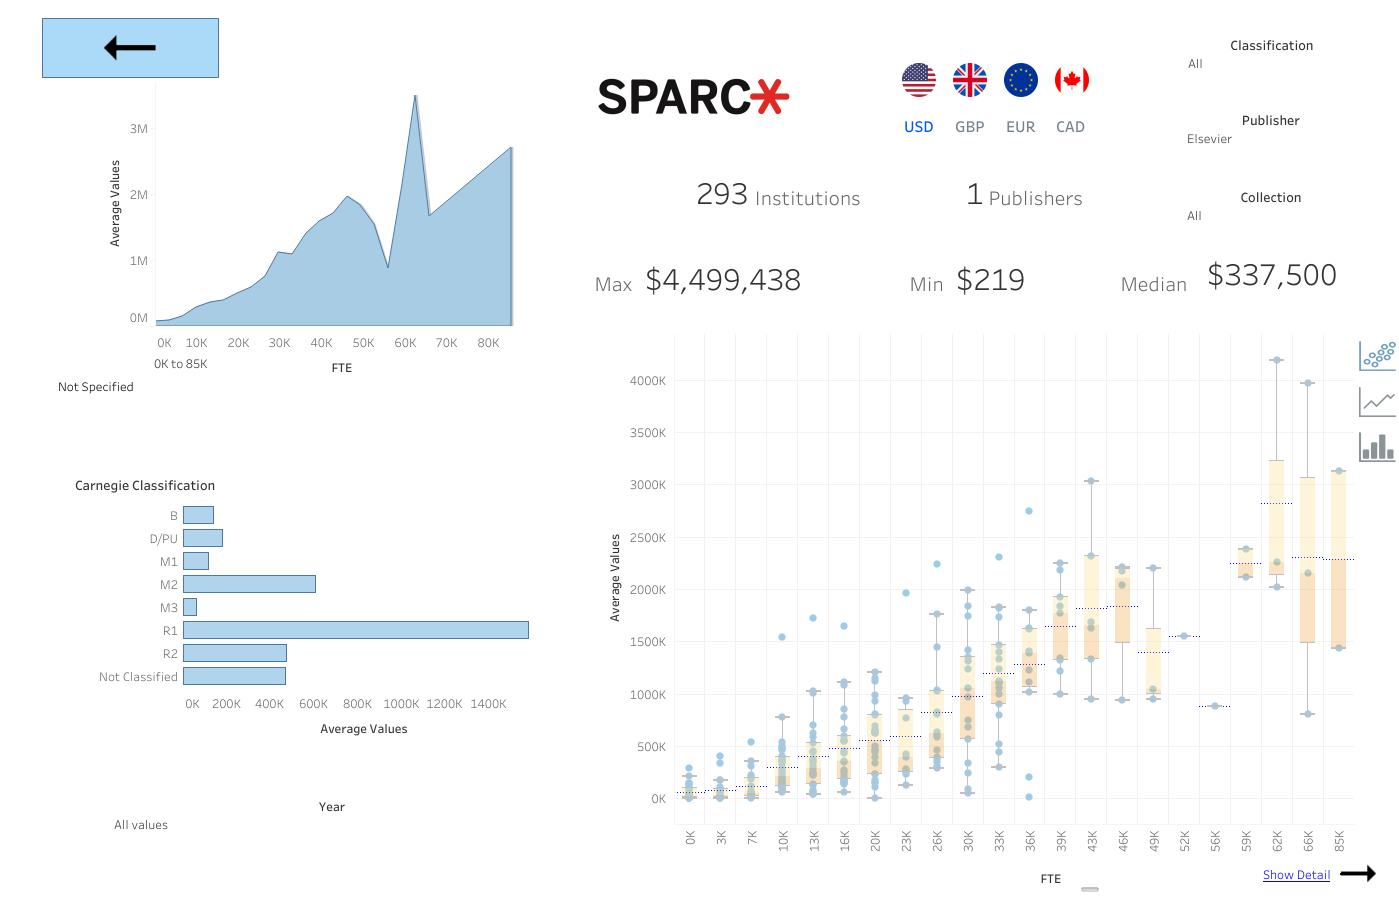

This screenshot's page, from the dashboard's own definition file:
{"tool":"tableau","page":{"name":"Trend","canvas":[1400,900],"ordinal":3},"visuals":[{"type":"worksheet","box":[0,0,1400,900]},{"type":"worksheet","param":"horz","box":[8,8,1384,884]},{"type":"worksheet","box":[8,8,1384,884]},{"type":"worksheet","box":[897,15,108,50]},{"type":"worksheet","box":[42,18,176.6,59.6]},{"type":"worksheet","title":"Bar","mark":"Automatic","rows":["carnegiebasicclassification"],"cols":["Calculation_684828639833743361"],"param":"[federated.1ilmw9q0gjl66f1c3u7oj002mgk7].[none:Calculation_660621788619177999:nk","box":[1185.7,33.8,172.3,72]},{"type":"worksheet","param":"Image/sparc.jpg","box":[592.3,39.4,219.7,114.7]},{"type":"worksheet","box":[50.6,50.6,521.2,376.9]},{"type":"worksheet","title":"Currency","mark":"Shape","cols":["Currency"],"box":[893.8,59.6,203.5,40.5]},{"type":"worksheet","title":"AreaBackground","mark":"Area","rows":["Calculation_684828639833743361"],"cols":["Fte (bin)"],"box":[98,83.2,430.8,299.2]},{"type":"worksheet","title":"Area","mark":"Area","rows":["Calculation_684828639833743361"],"cols":["Fte (bin)"],"box":[98,83.2,430.8,299.2]},{"type":"worksheet","box":[879.8,103.5,234.8,51.7]},{"type":"worksheet","title":"CurrencyLabel","mark":"Automatic","cols":["Currency"],"box":[893.8,105.7,203.5,40.5]},{"type":"worksheet","title":"Bar","mark":"Automatic","rows":["carnegiebasicclassification"],"cols":["Calculation_684828639833743361"],"param":"[federated.1ilmw9q0gjl66f1c3u7oj002mgk7].[none:publisher:nk]","box":[1184.6,109.1,172.3,65.2]},{"type":"worksheet","title":"Total Insitutions","mark":"Automatic","box":[637.5,157.5,115.2,69.8]},{"type":"worksheet","title":"Total Publishers","mark":"Automatic","box":[872.3,157.5,115.2,69.8]},{"type":"worksheet","box":[751.7,168.8,155.1,56.2]},{"type":"worksheet","box":[986.5,168.8,134.6,56.2]},{"type":"worksheet","title":"Bar","mark":"Automatic","rows":["carnegiebasicclassification"],"cols":["Calculation_684828639833743361"],"param":"[federated.1ilmw9q0gjl66f1c3u7oj002mgk7].[none:collection:nk]","box":[1184.6,185.6,172.3,67.5]},{"type":"worksheet","title":"Max","mark":"Automatic","box":[640.8,253.1,286.5,64.1]},{"type":"worksheet","title":"Min","mark":"Automatic","box":[952,253.1,172.3,69.8]},{"type":"worksheet","box":[592.3,255.4,155.1,56.2]},{"type":"worksheet","box":[906.8,255.4,64.6,56.2]},{"type":"worksheet","box":[1117.8,255.4,155.1,56.2]},{"type":"worksheet","title":"Graph","mark":"Shape","rows":["Graph type"],"box":[1353.7,333,46.3,136.1]},{"type":"worksheet","title":"Line_Com","mark":"Line","rows":["Calculation_684828639833743361","Calculation_684828639833743361"],"cols":["Calculation_901564367273189377"],"box":[597.7,334.1,756,529.9]},{"type":"worksheet","title":"Bar_Com","mark":"Bar","rows":["Calculation_684828639833743361"],"cols":["Calculation_901564367273189377"],"box":[597.7,334.1,756,529.9]},{"type":"worksheet","title":"Scatter_Com","mark":"Circle","rows":["Calculation_684828639833743361"],"cols":["Fte (bin)"],"box":[597.7,334.1,756,529.9]},{"type":"worksheet","title":"NullFilter","mark":"Automatic","rows":["Calculation_660621788639297560"],"cols":["Calculation_660621788639297560"],"box":[53.8,351,114.2,69.8]},{"type":"worksheet","title":"Area","mark":"Area","rows":["Calculation_684828639833743361"],"cols":["Fte (bin)"],"param":"[federated.1ilmw9q0gjl66f1c3u7oj002mgk7].[none:Fte (bin):qk]","box":[150.8,354.4,371.5,48.4]},{"type":"worksheet","title":"Bar","mark":"Automatic","rows":["carnegiebasicclassification"],"cols":["Calculation_684828639833743361"],"box":[71.1,469.1,473.8,426.4]},{"type":"worksheet","title":"Scatter_Com","mark":"Circle","rows":["Calculation_684828639833743361"],"cols":["Fte (bin)"],"param":"[federated.1ilmw9q0gjl66f1c3u7oj002mgk7].[none:Calculation_660621788678365210:qk","box":[111,796,442,68]},{"type":"worksheet","param":"Image/3.png","box":[1339,854,39,42]},{"type":"worksheet","title":"Goto","mark":"Automatic","rows":["Calculation_1192046545324634112"],"box":[1254.6,860.6,132.5,28.1]},{"type":"worksheet","box":[999,866,106,31]},{"type":"worksheet","title":"Label","mark":"Area","cols":["Calculation_1475491860274106375"],"box":[1021,868,89,23]}]}

Visuals, with their boxes in screenshot pixels (x1, y1, x2, y2), scaled from the page's 1400x900 canvas onto the 1399x899 screenshot:
worksheet: box(0, 0, 1398, 898)
worksheet: box(8, 8, 1391, 891)
worksheet: box(8, 8, 1391, 891)
worksheet: box(896, 15, 1004, 65)
worksheet: box(42, 18, 218, 78)
"Bar" worksheet: box(1185, 34, 1357, 106)
worksheet: box(592, 39, 811, 154)
worksheet: box(51, 51, 571, 427)
"Currency" worksheet (Shape marks): box(893, 60, 1097, 100)
"AreaBackground" worksheet (Area marks): box(98, 83, 528, 382)
"Area" worksheet (Area marks): box(98, 83, 528, 382)
worksheet: box(879, 103, 1114, 155)
"CurrencyLabel" worksheet: box(893, 106, 1097, 146)
"Bar" worksheet: box(1184, 109, 1356, 174)
"Total Insitutions" worksheet: box(637, 157, 752, 227)
"Total Publishers" worksheet: box(872, 157, 987, 227)
worksheet: box(751, 169, 906, 225)
worksheet: box(986, 169, 1120, 225)
"Bar" worksheet: box(1184, 185, 1356, 253)
"Max" worksheet: box(640, 253, 927, 317)
"Min" worksheet: box(951, 253, 1123, 323)
worksheet: box(592, 255, 747, 311)
worksheet: box(906, 255, 971, 311)
worksheet: box(1117, 255, 1272, 311)
"Graph" worksheet (Shape marks): box(1353, 333, 1398, 469)
"Line_Com" worksheet (Line marks): box(597, 334, 1353, 863)
"Bar_Com" worksheet (Bar marks): box(597, 334, 1353, 863)
"Scatter_Com" worksheet (Circle marks): box(597, 334, 1353, 863)
"NullFilter" worksheet: box(54, 351, 168, 420)
"Area" worksheet (Area marks): box(151, 354, 522, 402)
"Bar" worksheet: box(71, 469, 545, 895)
"Scatter_Com" worksheet (Circle marks): box(111, 795, 553, 863)
worksheet: box(1338, 853, 1377, 895)
"Goto" worksheet: box(1254, 860, 1386, 888)
worksheet: box(998, 865, 1104, 896)
"Label" worksheet (Area marks): box(1020, 867, 1109, 890)
